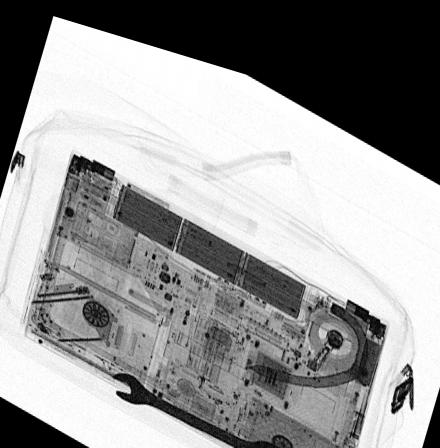Wrench: (111, 363, 292, 448)
